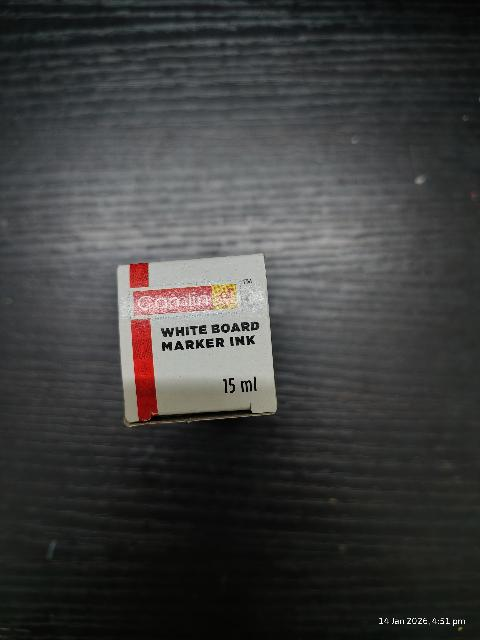camlin marker ink: (122, 259, 272, 417)
